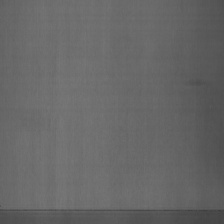welding_line: (1, 204, 223, 217)
